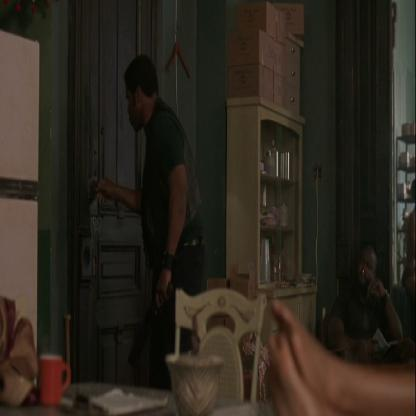Guns: (126, 280, 174, 362)
